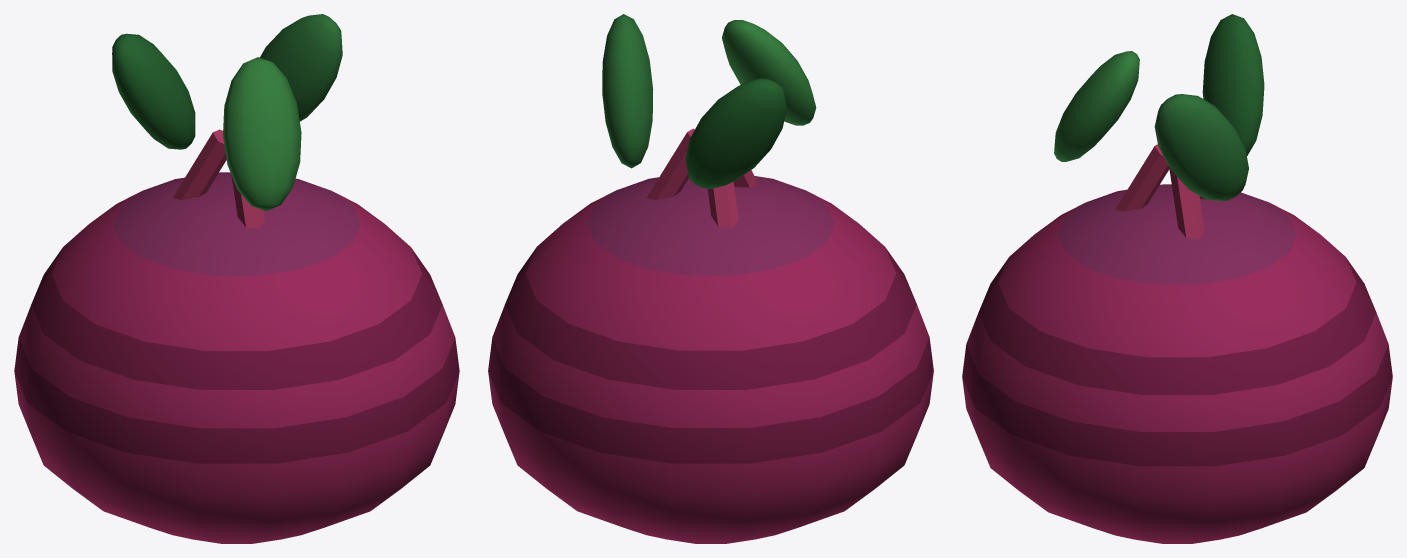
The model's file is Beet.glb.
The picture shows the model from 3 angles, left to right: view 1: azimuth 30°, elevation 25°; view 2: azimuth 150°, elevation 25°; view 3: azimuth 270°, elevation 25°; orthographic projection. The views are drawn at different scales.
Parts seen in each view (by area): view 1: Beet; view 2: Beet; view 3: Beet.
Boxes of the visible parts, x1,y1,x2,y2 form: Beet: (14,14,459,543); Beet: (488,14,933,543); Beet: (962,14,1392,543).
Bounding box in the file's own units: 0.5909 × 0.7326 × 0.6.
